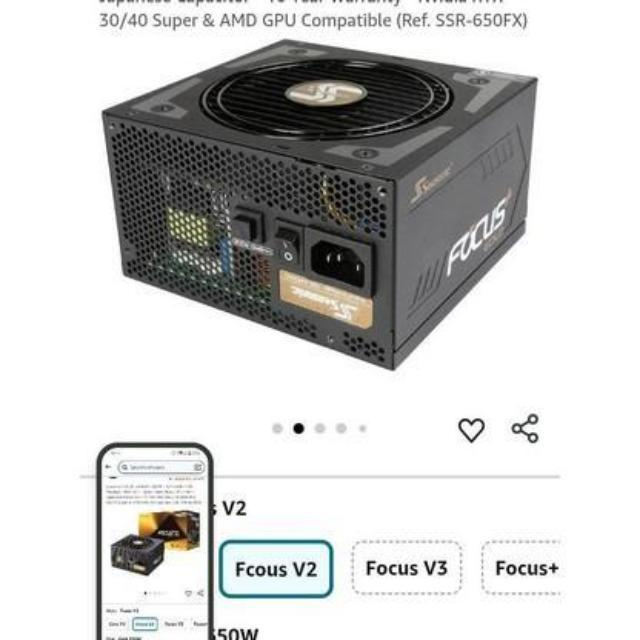PSU: (93, 38, 555, 372)
